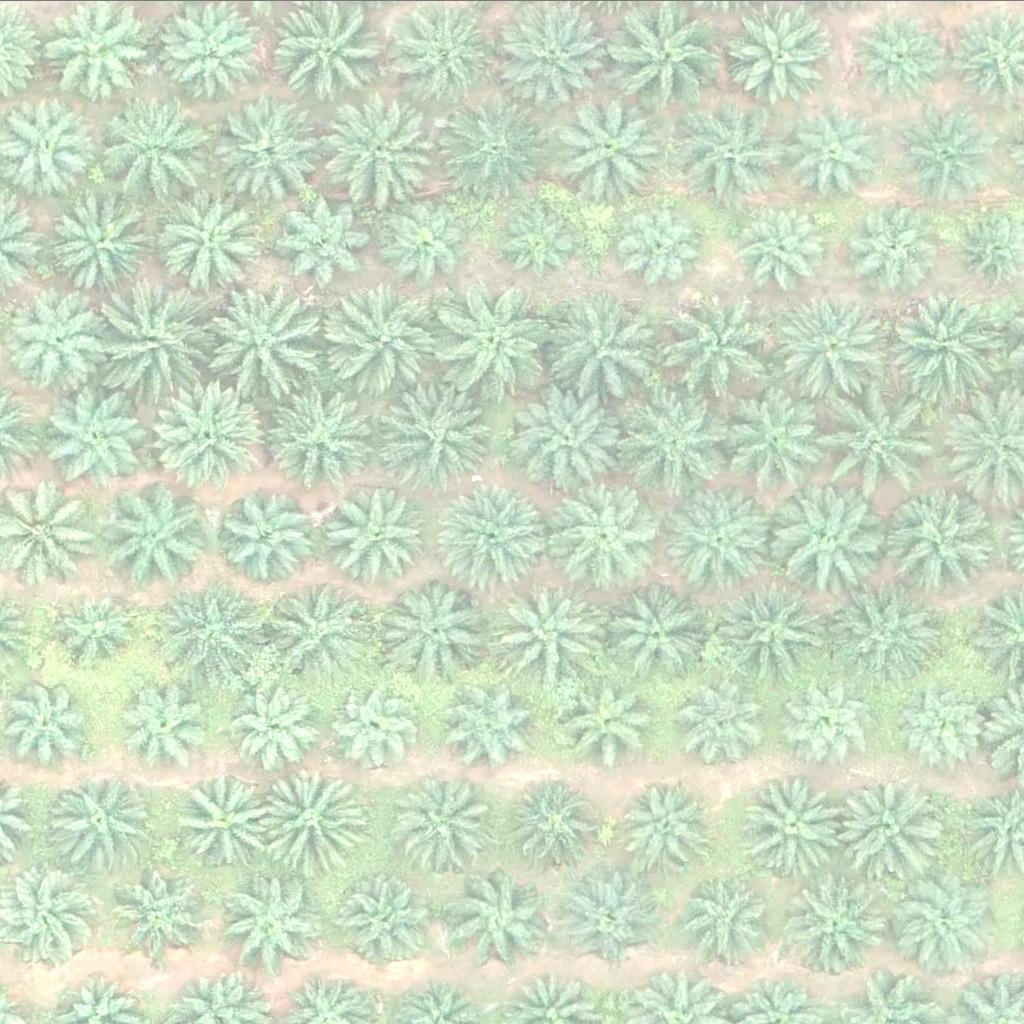Kelapa_Sawit: (219, 95, 333, 208), (376, 377, 490, 490), (775, 285, 888, 398), (894, 289, 1007, 402), (779, 489, 892, 602), (889, 869, 1002, 982), (102, 287, 215, 400), (331, 278, 444, 391), (512, 384, 625, 497), (266, 377, 379, 490), (103, 480, 216, 593), (438, 478, 551, 591), (500, 572, 613, 685), (258, 574, 371, 687), (158, 573, 271, 686), (782, 869, 896, 981), (436, 284, 550, 396), (714, 575, 828, 687), (257, 764, 371, 876), (823, 377, 936, 489), (884, 492, 997, 604), (832, 574, 945, 686), (835, 766, 948, 878), (494, 2, 607, 114), (101, 89, 214, 201), (333, 88, 446, 200), (435, 89, 548, 201), (554, 88, 667, 200), (675, 99, 788, 211), (154, 183, 267, 295), (214, 282, 327, 394), (546, 293, 659, 405), (656, 288, 769, 400), (711, 386, 824, 498), (620, 387, 733, 499), (150, 379, 263, 491), (667, 480, 780, 592), (736, 771, 849, 883), (276, 188, 377, 288), (221, 488, 322, 588), (325, 480, 426, 580), (562, 484, 663, 584), (606, 588, 707, 688), (389, 577, 490, 677), (614, 778, 715, 878), (181, 765, 282, 865), (229, 873, 330, 973), (339, 871, 440, 971), (683, 866, 784, 966), (44, 4, 145, 104), (55, 198, 156, 298), (10, 289, 111, 389), (45, 389, 146, 489), (778, 98, 878, 198), (907, 103, 1007, 203), (392, 777, 492, 877), (449, 868, 549, 968), (573, 868, 673, 968), (50, 770, 150, 870), (852, 12, 940, 100), (898, 680, 986, 768), (125, 686, 213, 774), (237, 682, 325, 770), (563, 677, 651, 765), (683, 672, 771, 760), (508, 784, 596, 872), (126, 863, 214, 951), (46, 586, 134, 674), (849, 203, 937, 290), (737, 200, 825, 287), (613, 200, 701, 287), (380, 189, 468, 276), (334, 681, 422, 768), (453, 680, 541, 767), (788, 678, 876, 765), (503, 203, 579, 278)
